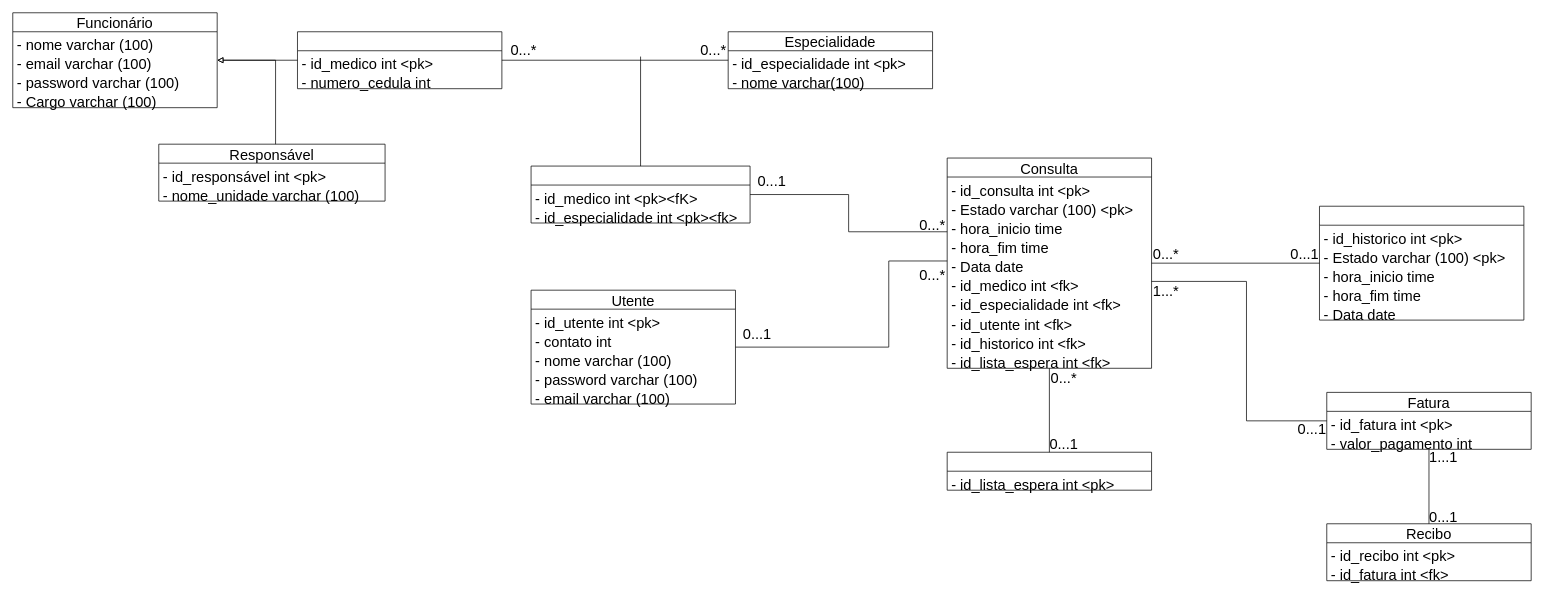
Image size: 1544x596. Some labels were removed from this diagram. The box of each missing label's shape, as (x1, y1, x2, y2) in pixels:
Histórico: (1319, 205, 1524, 320)
Lista de espera: (946, 452, 1152, 490)
Médico: (297, 31, 502, 89)
Médico e especialidade: (530, 165, 750, 223)
